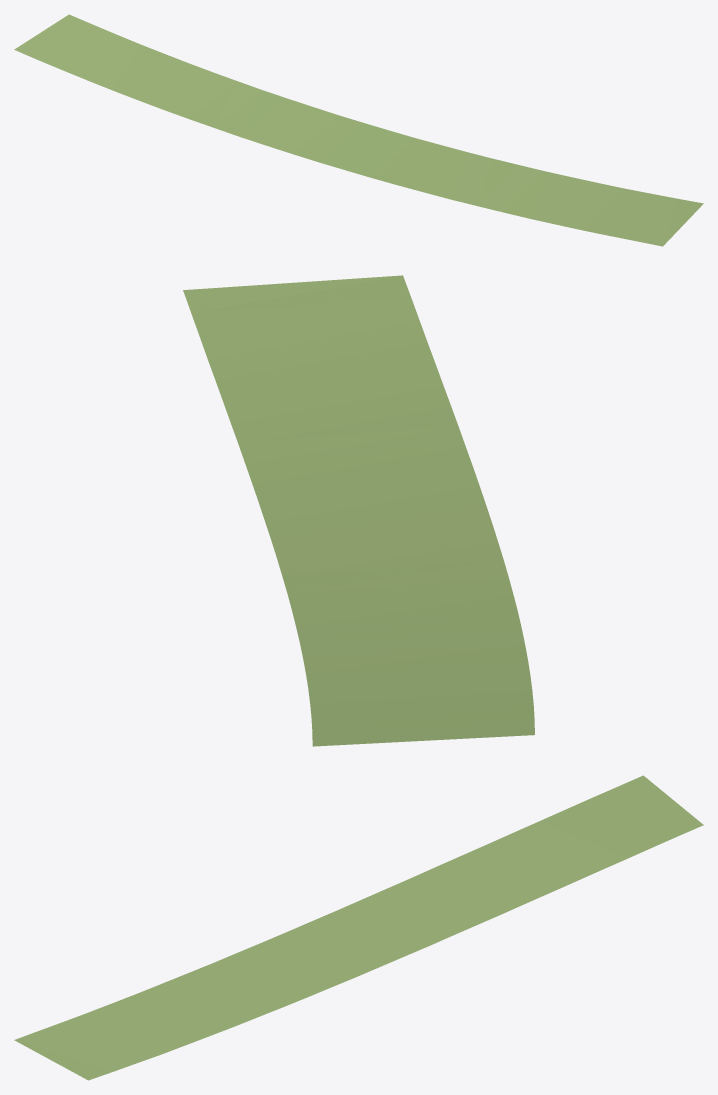
File: path-14.gltf
3 views of the same model, one above another, from view 1: azimuth 30°, elevation 25°; view 2: azimuth 150°, elevation 25°; view 3: azimuth 270°, elevation 25° (orthographic). The views are drawn at different scales.
Size of the model in its own units: 23.39 by 3.68 by 29.89.
